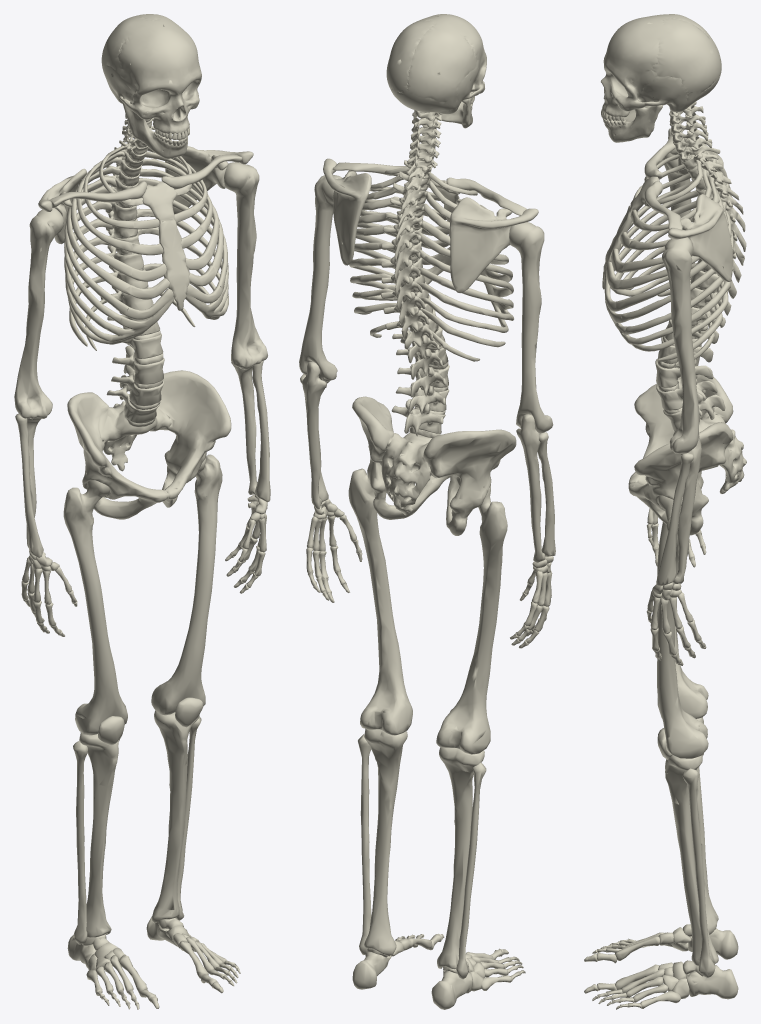
Rendered from skeleton1.glb.
3 renders of one model, left to right at view 1: azimuth 30°, elevation 25°; view 2: azimuth 150°, elevation 25°; view 3: azimuth 270°, elevation 25°, orthographic.
Visible parts, largest first — view 1: Object_4, Object_12, Object_13, Object_11, Object_9, Object_7, Object_5, Object_8, Object_17, Object_21, Object_18, Object_16 (+4 smaller); view 2: Object_13, Object_12, Object_5, Object_4, Object_7, Object_11, Object_9, Object_6, Object_17, Object_8, Object_10, Object_21 (+2 smaller); view 3: Object_11, Object_4, Object_12, Object_5, Object_8, Object_13, Object_9, Object_7, Object_6, Object_17, Object_21, Object_10 (+3 smaller).
Part boxes in pixels (box(x1,y1,x2,y2)): Object_4: box(64, 145, 228, 350); Object_12: box(67, 370, 231, 519); Object_13: box(63, 454, 222, 735); Object_11: box(101, 14, 201, 158); Object_9: box(14, 162, 267, 419); Object_7: box(79, 710, 199, 937); Object_5: box(96, 114, 164, 426); Object_8: box(67, 916, 240, 1009); Object_17: box(21, 494, 267, 636); Object_21: box(73, 716, 201, 944); Object_18: box(15, 360, 270, 557); Object_16: box(141, 181, 189, 310); Object_13: box(348, 468, 507, 754); Object_12: box(352, 396, 516, 535); Object_5: box(381, 118, 449, 437); Object_4: box(349, 166, 513, 361); Object_7: box(364, 728, 484, 969); Object_11: box(386, 14, 486, 128); Object_9: box(299, 175, 553, 433); Object_6: box(323, 158, 538, 293); Object_17: box(306, 499, 553, 648); Object_8: box(352, 933, 525, 1009); Object_10: box(302, 361, 545, 562); Object_21: box(358, 734, 486, 979); Object_11: box(600, 14, 721, 142); Object_4: box(604, 150, 733, 367); Object_12: box(628, 374, 746, 535); Object_5: box(655, 109, 746, 431); Object_8: box(584, 924, 738, 1009); Object_13: box(657, 495, 708, 758); Object_9: box(662, 152, 699, 453); Object_7: box(665, 717, 718, 965); Object_6: box(668, 128, 732, 281); Object_17: box(646, 508, 706, 665); Object_21: box(682, 767, 715, 977); Object_10: box(673, 344, 701, 583).
Size of the model in its own units: 1.88 by 6.91 by 1.06.
